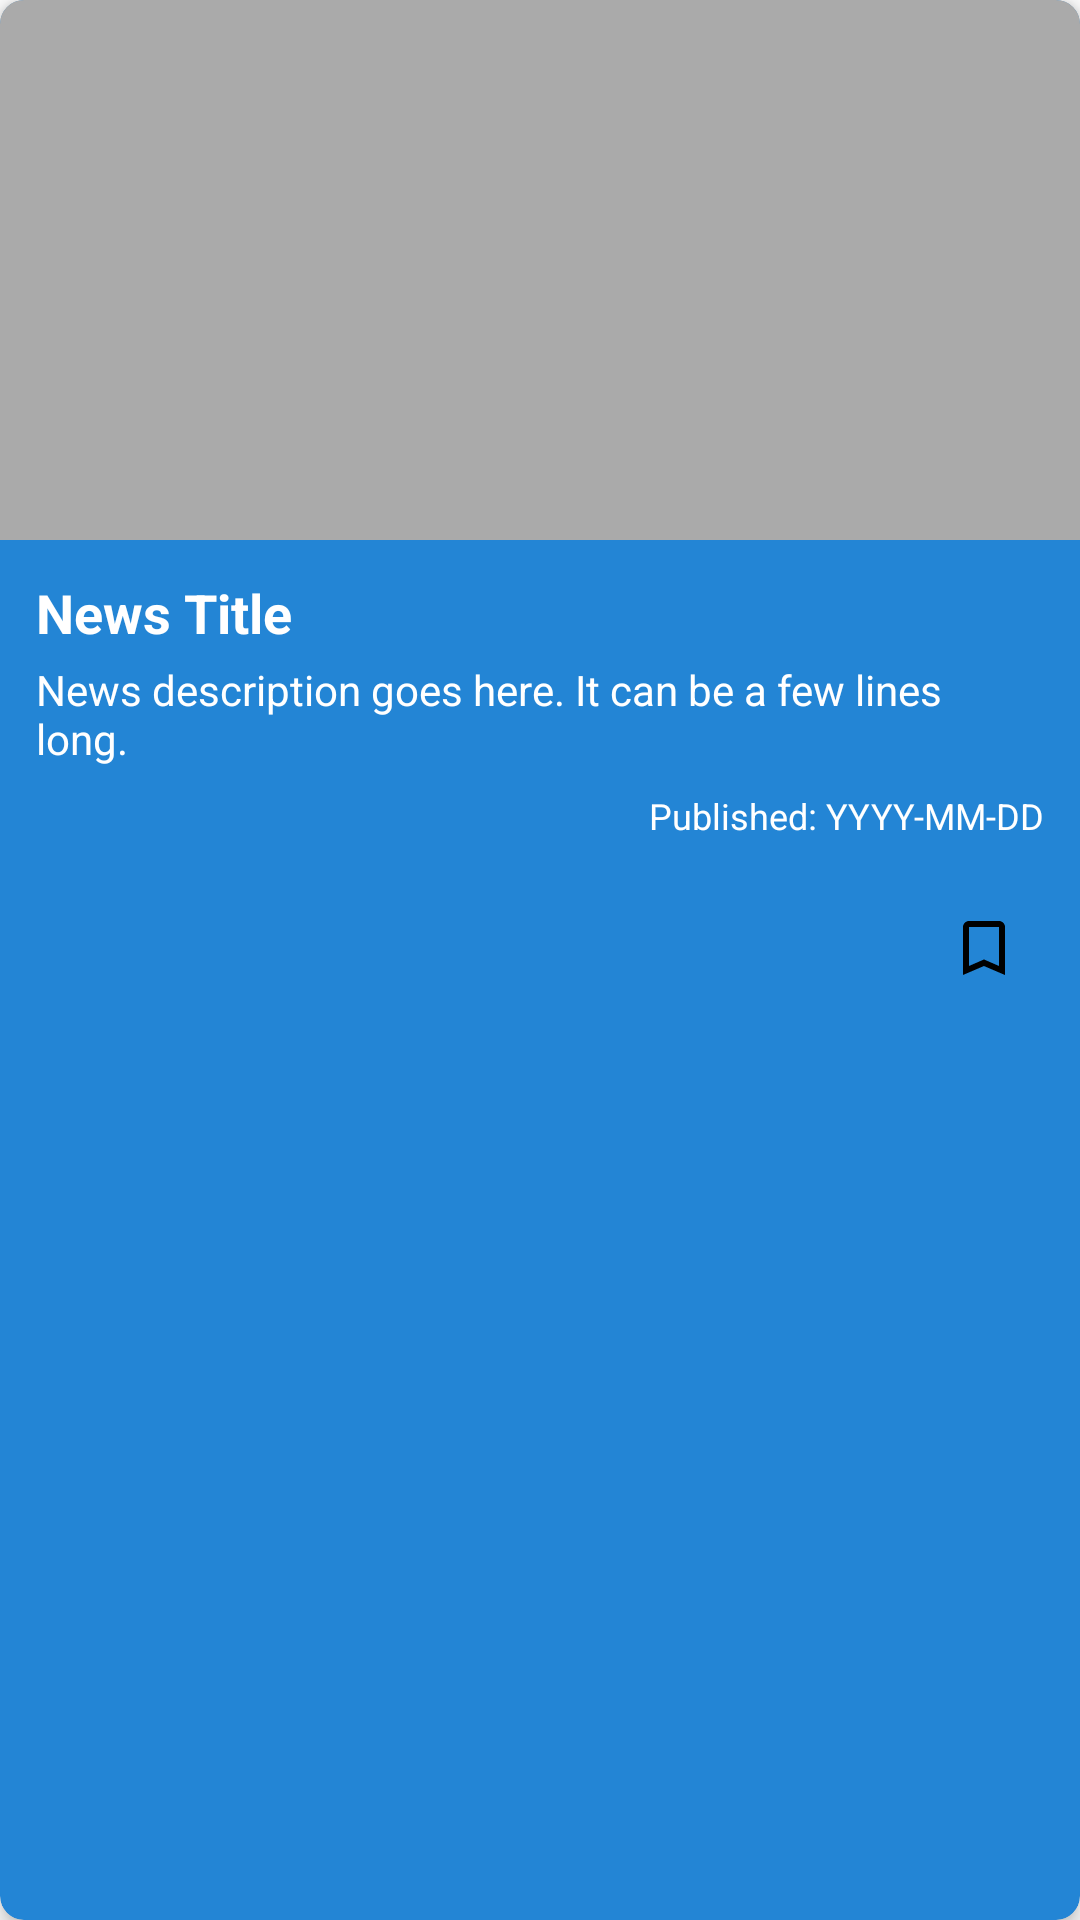

Where to tap for icons on this 1080 x 1920 app screen, as point (x, y):
Bookmark button: point (984, 948)
